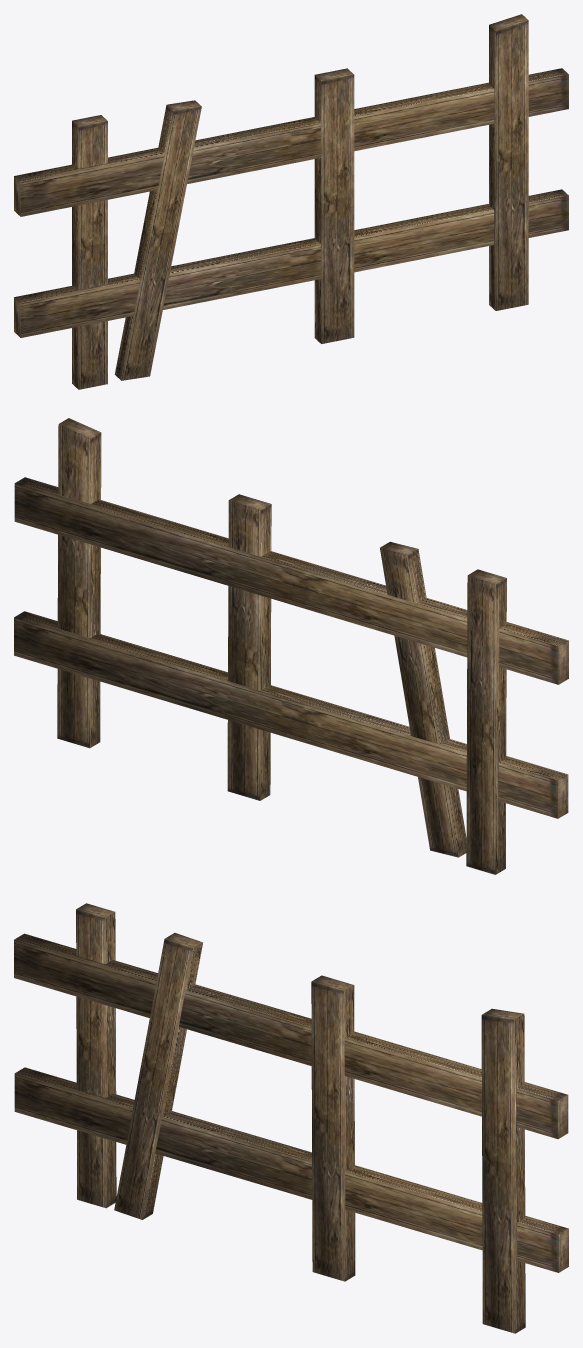
File: S_Build_West074.FBX
The picture shows the model from 3 angles, top to bottom: view 1: azimuth 30°, elevation 25°; view 2: azimuth 150°, elevation 25°; view 3: azimuth 330°, elevation 25°; orthographic projection. The views are drawn at different scales.
Parts seen in each view (by area): view 1: S_Build_West074; view 2: S_Build_West074; view 3: S_Build_West074.
Boxes of the visible parts, x1=… form: S_Build_West074: x1=14, y1=14, x2=568, y2=389; S_Build_West074: x1=14, y1=418, x2=568, y2=874; S_Build_West074: x1=14, y1=903, x2=568, y2=1333.
Size of the model in its own units: 434 by 51.51 by 227.
